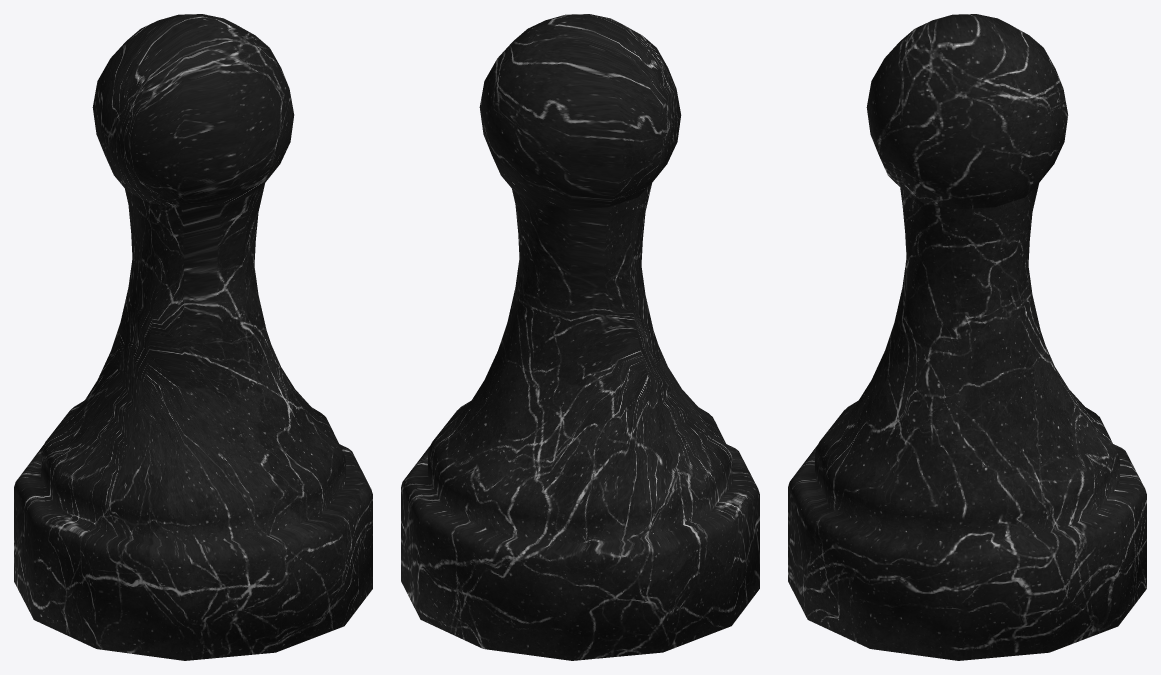
Rendered from PeonNegro.glb.
3 renders of one model, left to right at view 1: azimuth 30°, elevation 25°; view 2: azimuth 150°, elevation 25°; view 3: azimuth 270°, elevation 25°, orthographic.
Parts seen in each view (by area): view 1: PeonN; view 2: PeonN; view 3: PeonN.
Part boxes in pixels (x1,y1,x2,y2): PeonN: [14, 14, 372, 660]; PeonN: [401, 14, 759, 660]; PeonN: [788, 14, 1146, 660].
Size of the model in its own units: 0.7033 by 1.22 by 0.7033.
Materials: 1 (1 with a texture image).
